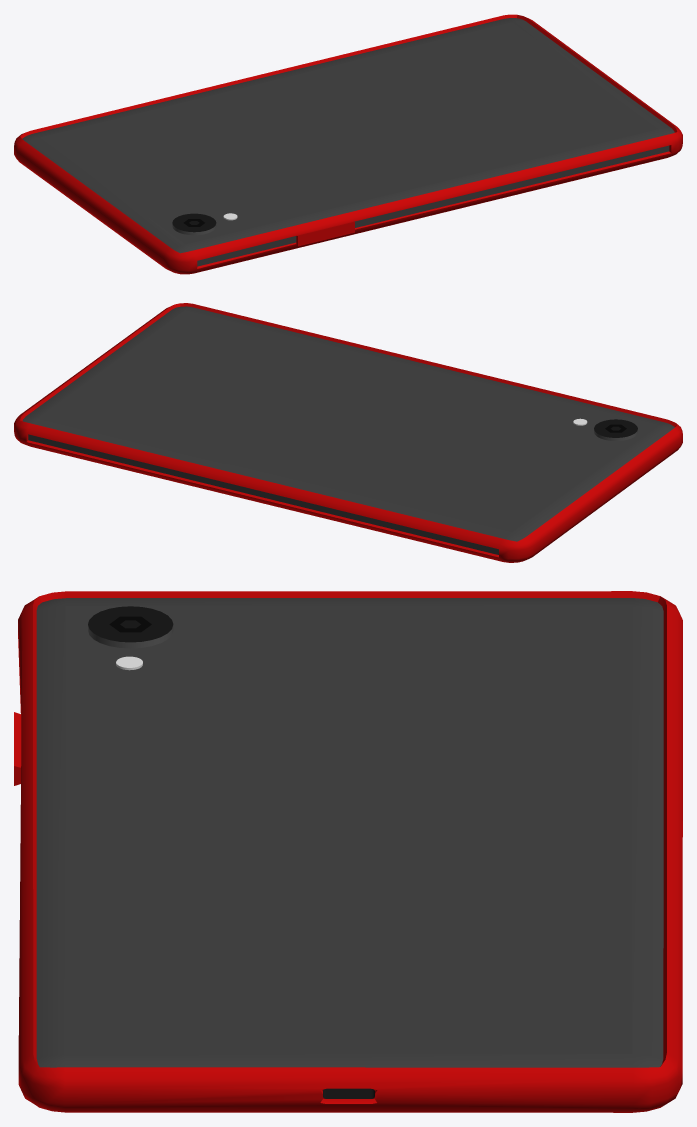
The model's file is SmartPhone.fbx.
3 views of the same model, one above another, from view 1: azimuth 30°, elevation 25°; view 2: azimuth 150°, elevation 25°; view 3: azimuth 270°, elevation 25° (orthographic). The views are drawn at different scales.
Visible parts, largest first — view 1: SmartPhone; view 2: SmartPhone; view 3: SmartPhone.
Part boxes in pixels (bbox=[...]): SmartPhone: bbox=[14, 14, 682, 274]; SmartPhone: bbox=[14, 303, 682, 562]; SmartPhone: bbox=[14, 591, 682, 1112].
Size of the model in its own units: 155 by 7.44 by 89.16.
